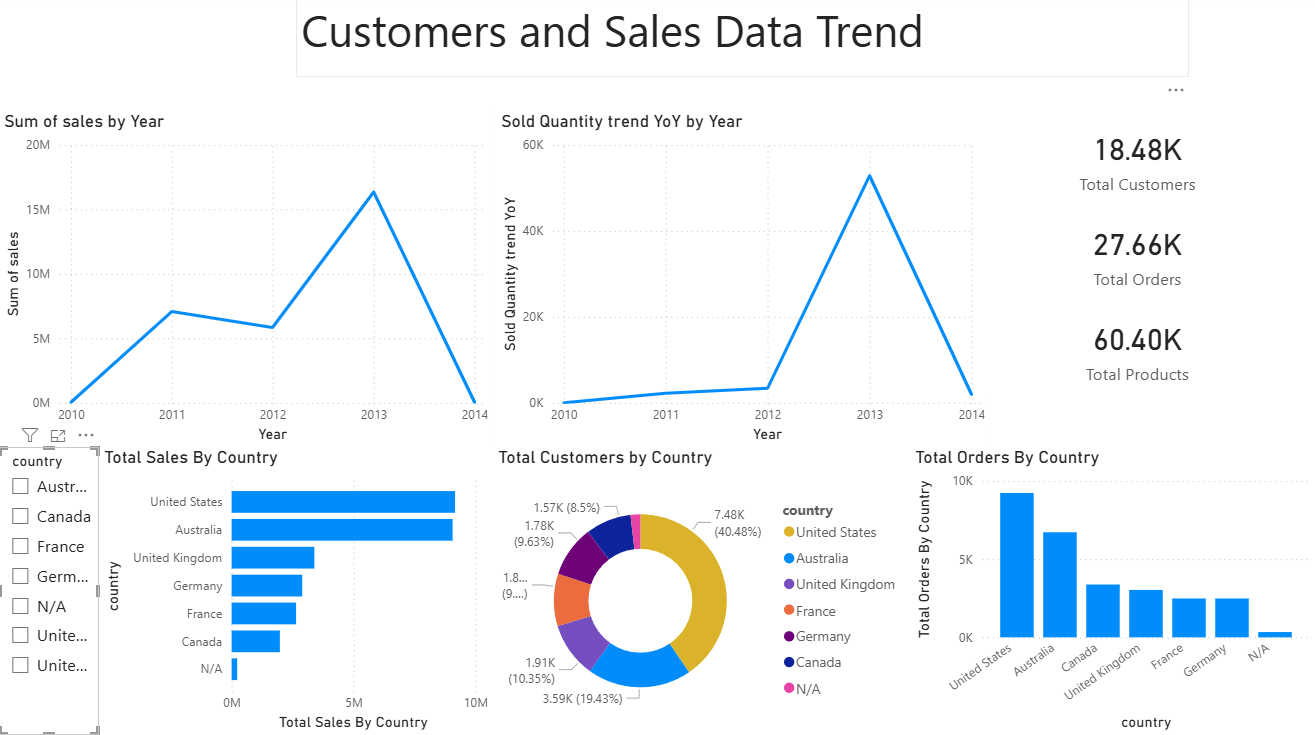

What the dashboard file says about the page in this screenshot:
{"tool":"powerbi","page":{"name":"Cust and Sales Trend","canvas":[1280,720],"ordinal":0},"visuals":[{"type":"barChart","title":"Total Sales By Country","fields":{"Category":["gold dim_customers.country"],"Y":["Sum(gold fact_sales.sales)"]},"box":[97.3,439.6,383.2,280.1],"z":0},{"type":"donutChart","title":"Total Customers by Country","fields":{"Category":["gold dim_customers.country"],"Y":["Count(gold fact_sales.customer_key)"]},"box":[480.5,439.6,405.6,280.1],"z":1000},{"type":"clusteredColumnChart","title":"Total Orders By Country","fields":{"Category":["gold dim_customers.country"],"Y":["Count(gold fact_sales.order_number)"]},"box":[886.1,439.6,393.9,280.1],"z":2000},{"type":"slicer","fields":{"Values":["gold dim_customers.country"]},"box":[0,439.6,97.3,280.1],"z":3000},{"type":"lineChart","fields":{"Category":["gold fact_sales.order_date.Variation.Date Hierarchy.Year","gold fact_sales.order_date.Variation.Date Hierarchy.Quarter","gold fact_sales.order_date.Variation.Date Hierarchy.Month","gold fact_sales.order_date.Variation.Date Hierarchy.Day"],"Y":["Sum(gold fact_sales.sales)"]},"box":[0,112.8,480.5,326.8],"z":3001},{"type":"lineChart","fields":{"Category":["gold fact_sales.order_date.Variation.Date Hierarchy.Year","gold fact_sales.order_date.Variation.Date Hierarchy.Quarter","gold fact_sales.order_date.Variation.Date Hierarchy.Month","gold fact_sales.order_date.Variation.Date Hierarchy.Day"],"Y":["Sum(gold fact_sales.quantity)"]},"box":[483.4,112.8,480.5,326.8],"z":3002},{"type":"card","fields":{"Values":["Count(gold dim_customers.customer_id)"]},"box":[947.4,112.8,320,92.4],"z":3003},{"type":"card","fields":{"Values":["Count(gold fact_sales.order_number)"]},"box":[947.4,205.2,320,92.4],"z":3004},{"type":"card","fields":{"Values":["CountNonNull(gold fact_sales.product_key)"]},"box":[947.4,297.6,320,92.4],"z":3005},{"type":"textbox","box":[288.9,0,868.6,79.8],"z":3007}]}

Visuals, with their boxes in screenshot pixels (x1, y1, x2, y2), scaled from the page's 1280x720 canvas onto the 1315x735 screenshot:
"Total Sales By Country" barChart: <box>100,449,494,734</box>
"Total Customers by Country" donutChart: <box>494,449,910,734</box>
"Total Orders By Country" clusteredColumnChart: <box>910,449,1314,734</box>
slicer - gold dim_customers.country: <box>0,449,100,734</box>
lineChart - gold fact_sales.order_date.Variation.Date Hierarchy.Year x gold fact_sales.order_date.Variation.Date Hierarchy.Quarter: <box>0,115,494,449</box>
lineChart - gold fact_sales.order_date.Variation.Date Hierarchy.Year x gold fact_sales.order_date.Variation.Date Hierarchy.Quarter: <box>497,115,990,449</box>
card - Count(gold dim_customers.customer_id): <box>973,115,1302,209</box>
card - Count(gold fact_sales.order_number): <box>973,209,1302,304</box>
card - CountNonNull(gold fact_sales.product_key): <box>973,304,1302,398</box>
textbox: <box>297,0,1189,81</box>
